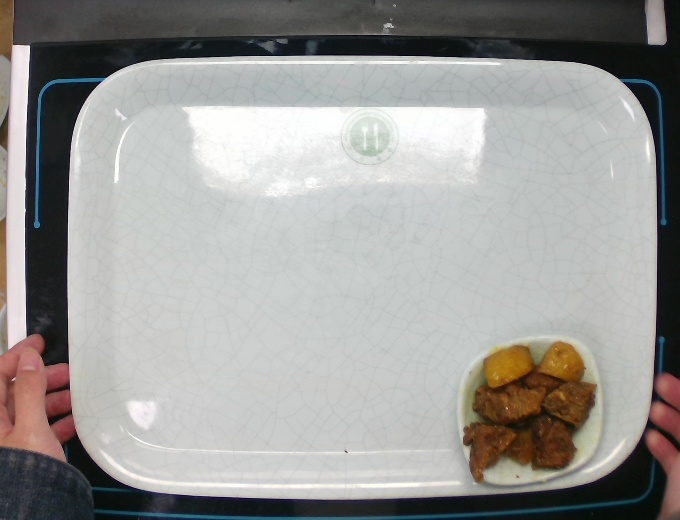JYsf-Si_Fang_Die: (460, 335, 609, 488)
